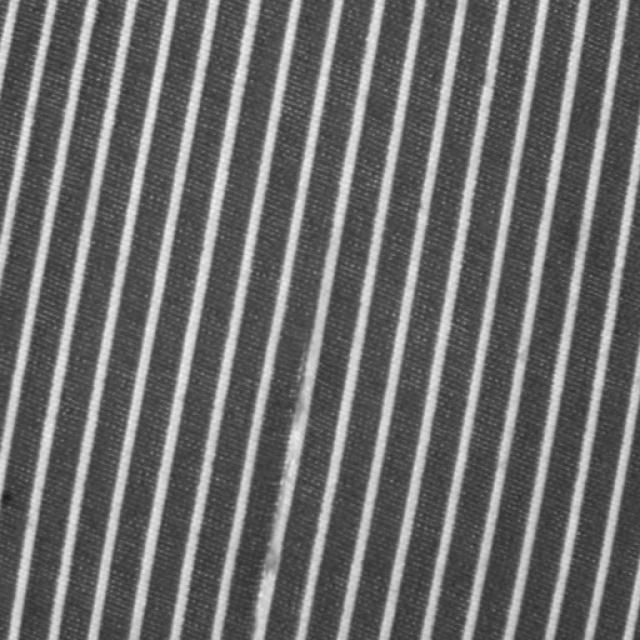Thread-Defect: (259, 291, 329, 598)
